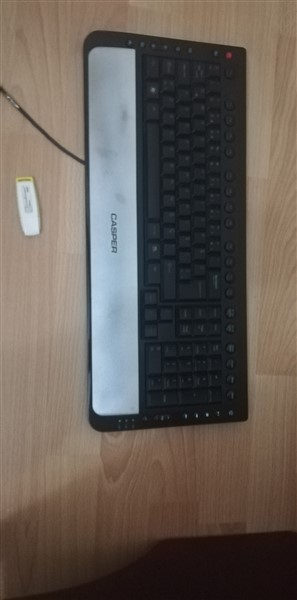flash disk: (11, 174, 51, 244)
klavye: (74, 26, 254, 431)
